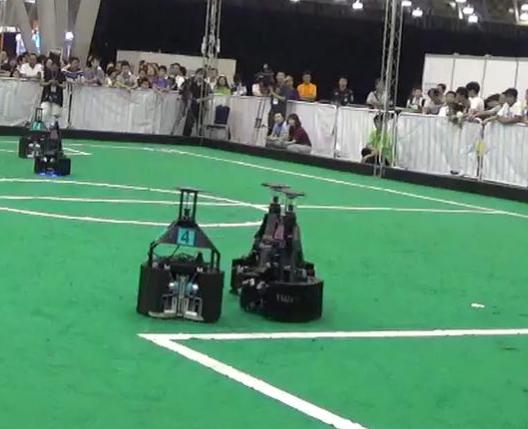robot: (232, 179, 329, 323), (134, 180, 228, 326)
